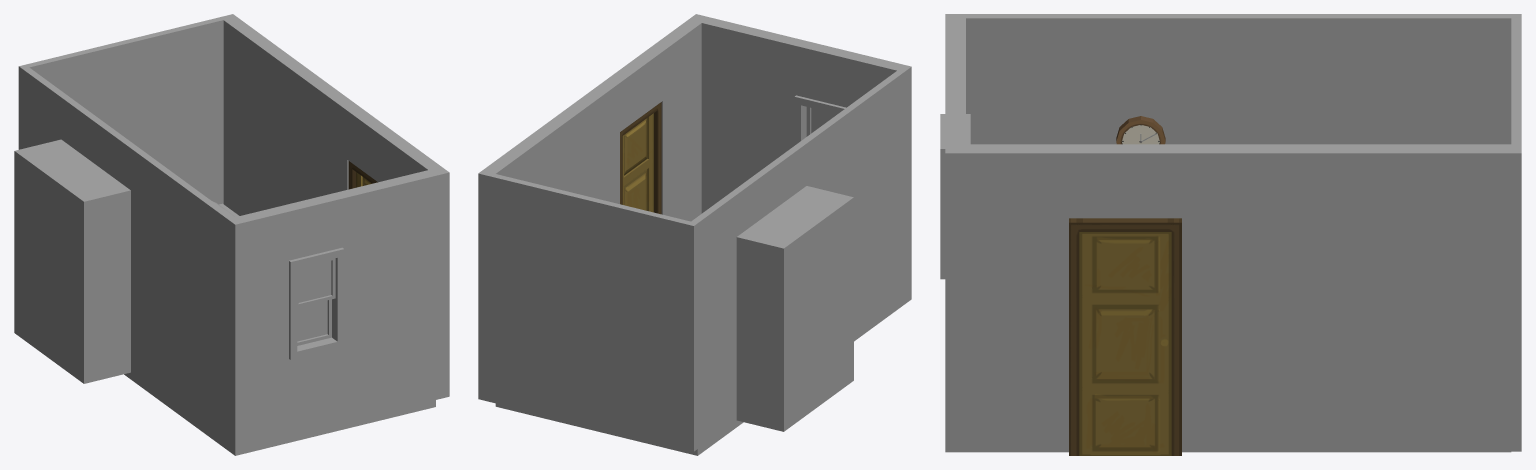
Rendered from room-improved.fbx.
3 views of the same model, side by side, from view 1: azimuth 30°, elevation 25°; view 2: azimuth 150°, elevation 25°; view 3: azimuth 270°, elevation 25° (orthographic). The views are drawn at different scales.
Visible parts, largest first — view 1: wall, closet, windowFrame, floor, window2, window3; view 2: wall, closet, pCube7, floor, doorFrame, windowFrame, window2; view 3: wall, pCube7, doorFrame, closetDoor1, closetDoor2, TimeClock, windowFrame, floor.
Boxes of the visible parts, x1=… form: wall: x1=18, y1=14, x2=449, y2=448; closet: x1=14, y1=139, x2=130, y2=383; windowFrame: x1=289, y1=247, x2=344, y2=359; floor: x1=124, y1=372, x2=435, y2=455; window2: x1=297, y1=258, x2=335, y2=307; window3: x1=297, y1=299, x2=331, y2=345; wall: x1=478, y1=14, x2=911, y2=451; closet: x1=736, y1=186, x2=853, y2=431; pCube7: x1=622, y1=113, x2=653, y2=212; floor: x1=495, y1=292, x2=911, y2=455; doorFrame: x1=620, y1=102, x2=661, y2=214; windowFrame: x1=794, y1=95, x2=845, y2=145; window2: x1=806, y1=107, x2=836, y2=136; wall: x1=945, y1=14, x2=1521, y2=451; pCube7: x1=1079, y1=232, x2=1171, y2=455; doorFrame: x1=1069, y1=218, x2=1181, y2=455; closetDoor1: x1=1316, y1=83, x2=1398, y2=144; closetDoor2: x1=1233, y1=83, x2=1315, y2=144; TimeClock: x1=1116, y1=116, x2=1165, y2=144; windowFrame: x1=940, y1=114, x2=970, y2=279; floor: x1=945, y1=451, x2=1510, y2=452.
Bounding box in the file's own units: 40 × 37 × 56.5.
